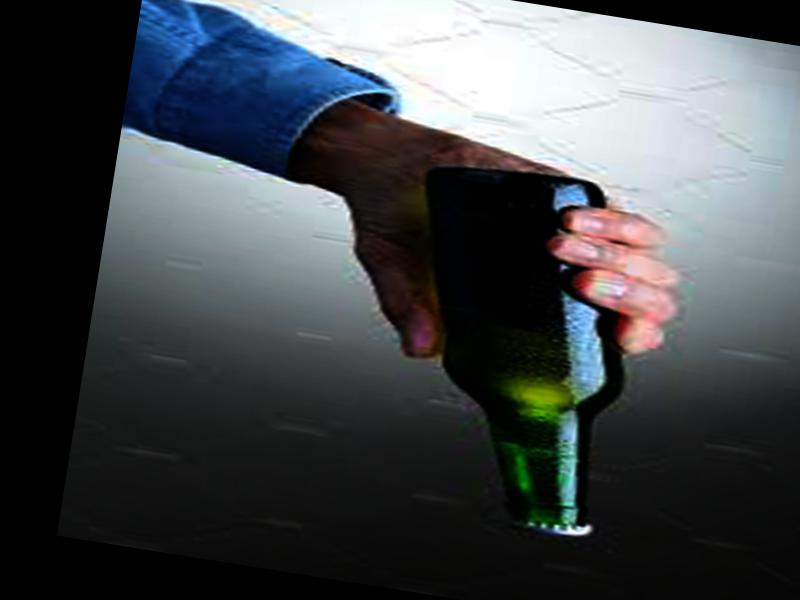Beer: (371, 157, 663, 539)
